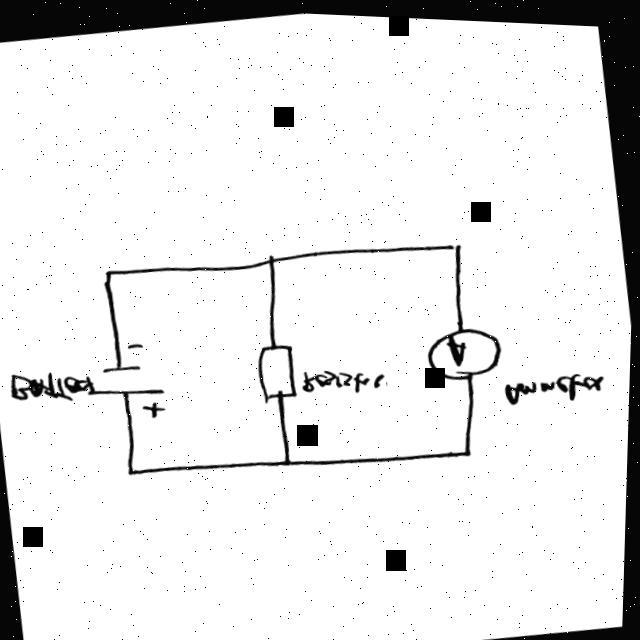junction: (281, 451, 298, 466), (461, 441, 478, 456), (101, 265, 118, 280), (264, 250, 281, 265), (449, 235, 466, 250), (125, 462, 142, 476)
resistor: (255, 337, 303, 402)
source: (83, 334, 177, 424)
text: (504, 361, 608, 403), (301, 359, 391, 397), (9, 368, 89, 407)
